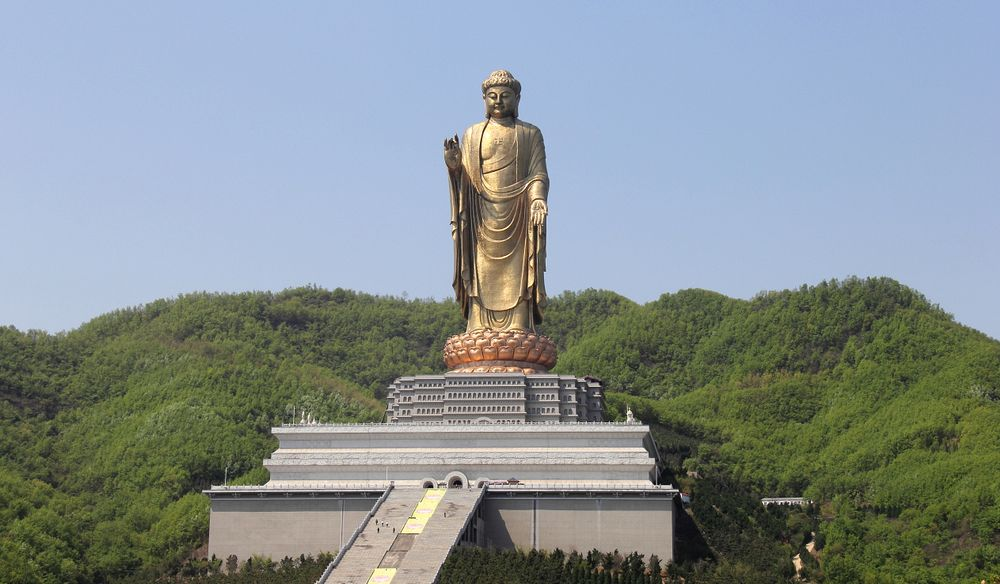person-like: (437, 61, 552, 346)
